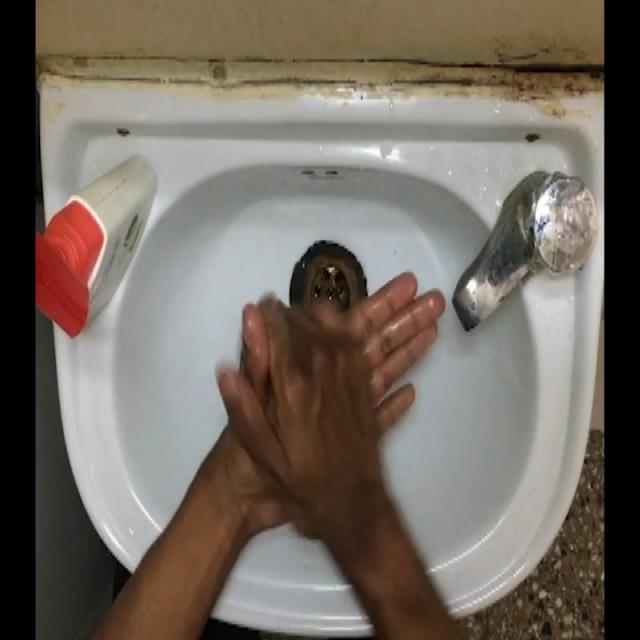step_5: (210, 256, 444, 532)
